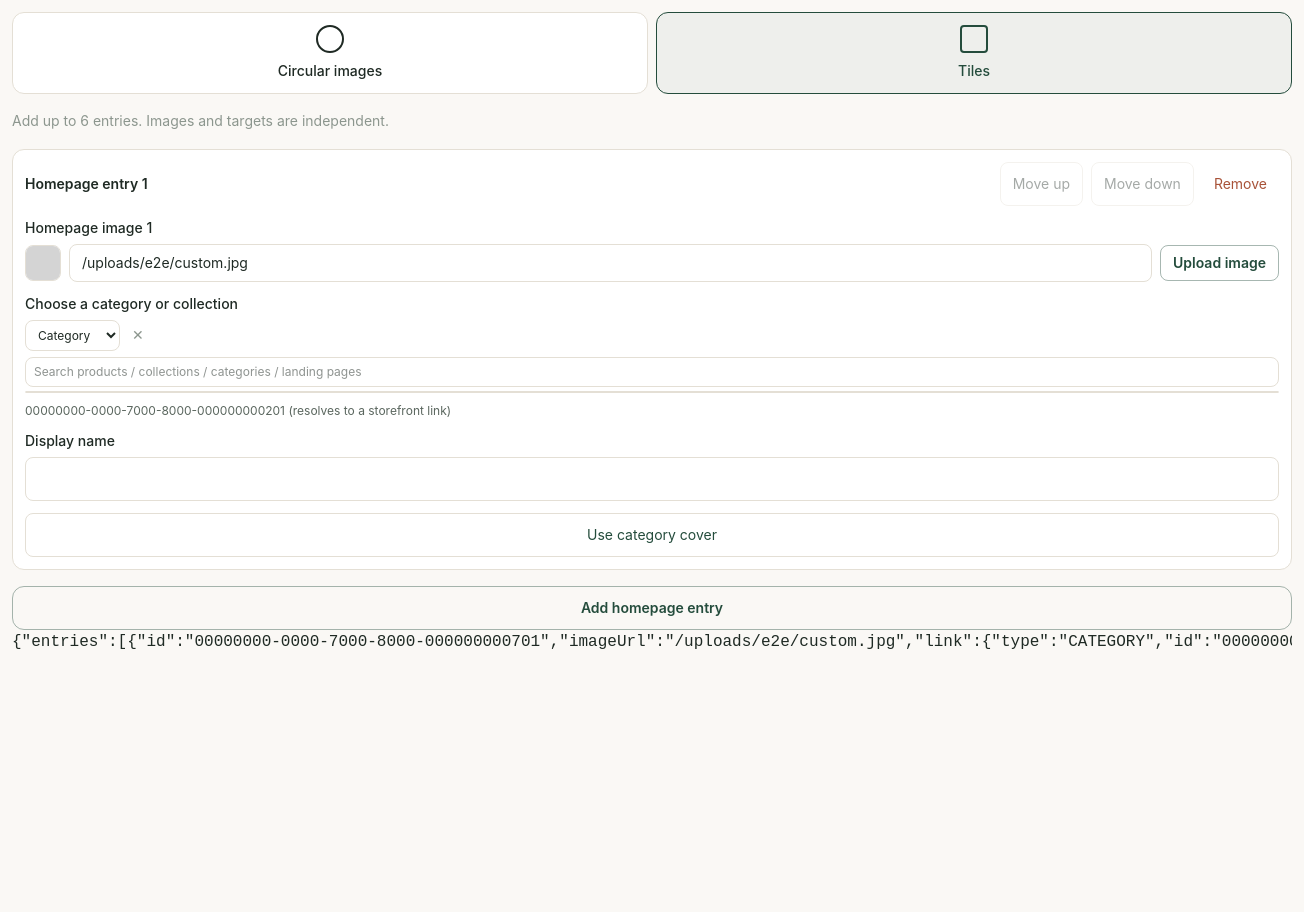
Test: CategoryTilesSectionEditor › copies a category cover only after an explicit action
The image size is (1304, 912).
Expected: the field labelled "Homepage image 1" holds "/uploads/e2e/custom.jpg", [69, 244, 1152, 282]
Click the button "Use category cover": (652,535) [25, 513, 1279, 557]
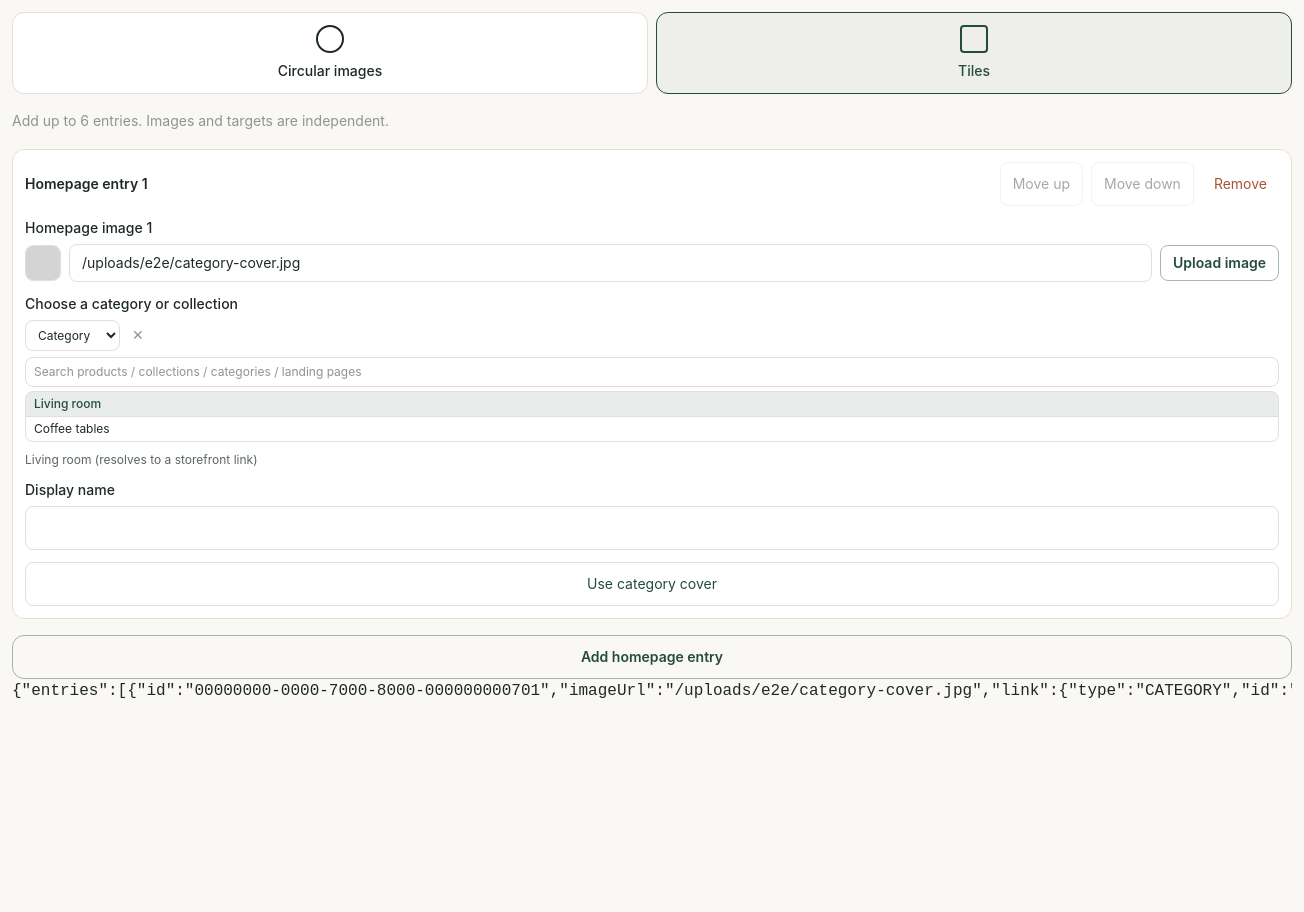
Now the field labelled "Homepage image 1" holds "/uploads/e2e/category-cover.jpg", box [69, 244, 1152, 282]
